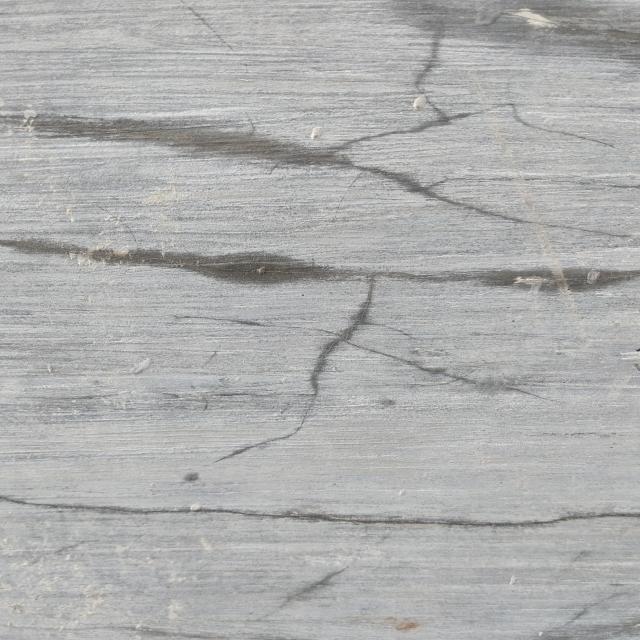Crack: (1, 491, 640, 530)
